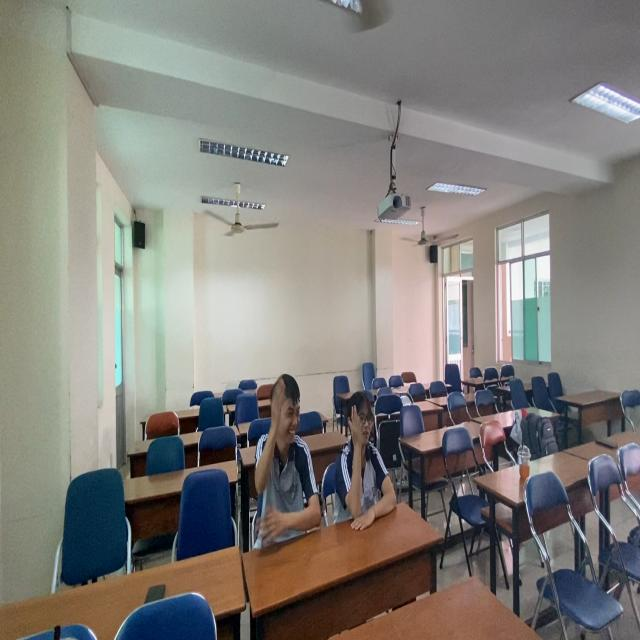raise_hand: (253, 369, 326, 550), (335, 383, 404, 533)
